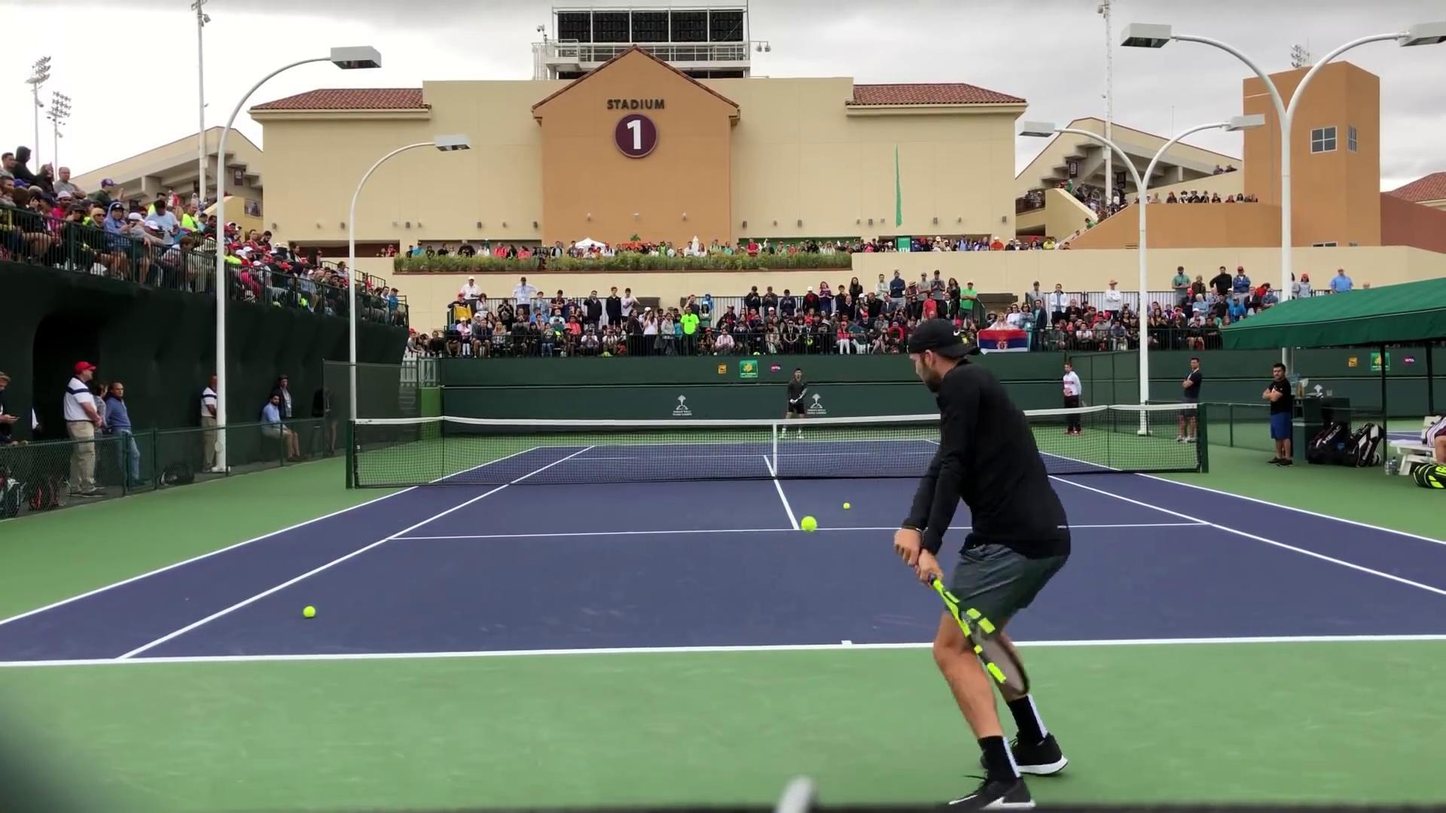ball: (800, 515, 819, 533), (929, 408, 946, 425), (301, 605, 316, 618), (843, 502, 850, 510)
